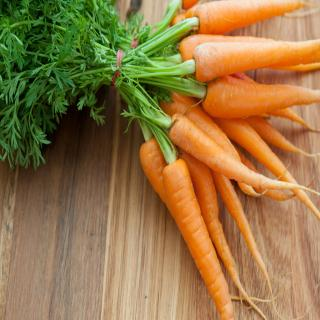Carrot: (156, 0, 320, 225), (143, 120, 234, 320)
